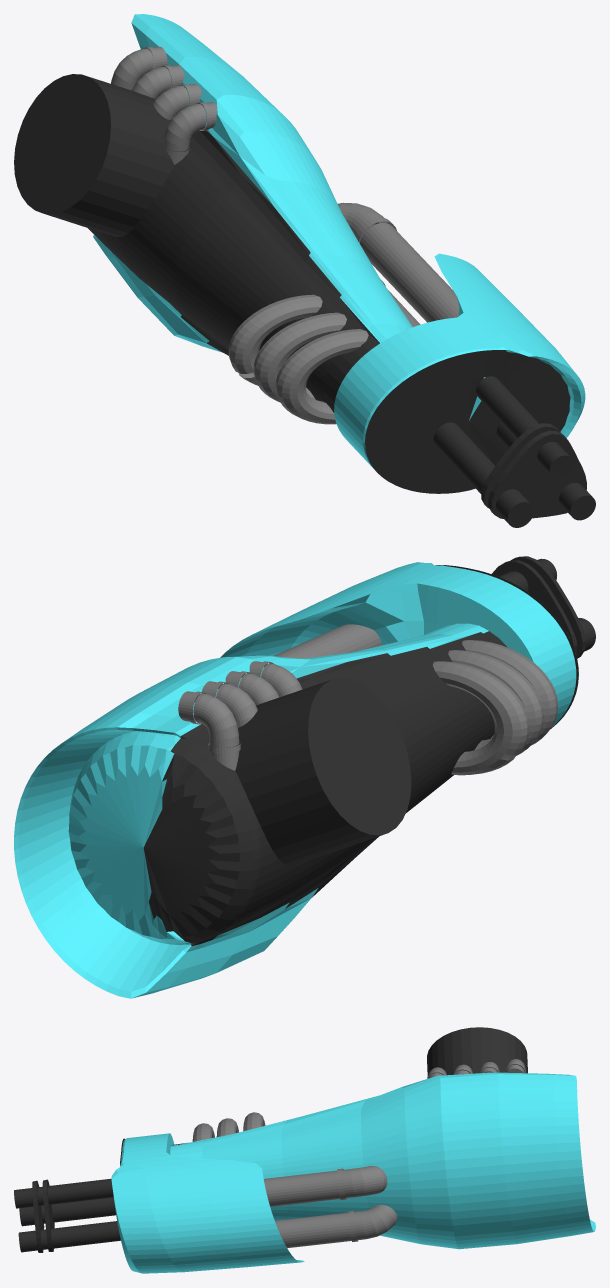
The model's file is SmallShip_Arm_R.fbx.
3 renders of one model, top to bottom at view 1: azimuth 30°, elevation 25°; view 2: azimuth 150°, elevation 25°; view 3: azimuth 270°, elevation 25°, orthographic. The views are drawn at different scales.
Parts seen in each view (by area): view 1: Cylinder.032, Cylinder.033, Cylinder.031, Cylinder.034, Cylinder.000, Cylinder.035, Cylinder.036, Cylinder.025; view 2: Cylinder.033, Cylinder.032, Cylinder.031, Cylinder.000, Cylinder.025, Cylinder.036, Cylinder.035, Cylinder.034; view 3: Cylinder.033, Cylinder.000, Cylinder.036, Cylinder.035, Cylinder.031, Cylinder.025.
Boxes of the visible parts, left/top/right/bottom form: Cylinder.032: left=88, top=129, right=379, bottom=412; Cylinder.033: left=93, top=14, right=412, bottom=352; Cylinder.031: left=14, top=74, right=180, bottom=237; Cylinder.034: left=365, top=350, right=570, bottom=493; Cylinder.000: left=334, top=253, right=585, bottom=493; Cylinder.035: left=433, top=376, right=595, bottom=527; Cylinder.036: left=111, top=46, right=459, bottom=326; Cylinder.025: left=228, top=294, right=368, bottom=424; Cylinder.033: left=14, top=623, right=488, bottom=998; Cylinder.032: left=143, top=631, right=507, bottom=946; Cylinder.031: left=226, top=677, right=411, bottom=865; Cylinder.000: left=220, top=562, right=578, bottom=727; Cylinder.025: left=432, top=640, right=558, bottom=775; Cylinder.036: left=178, top=624, right=381, bottom=770; Cylinder.035: left=492, top=556, right=595, bottom=658; Cylinder.034: left=435, top=565, right=578, bottom=729; Cylinder.033: left=170, top=1072, right=595, bottom=1249; Cylinder.000: left=111, top=1133, right=304, bottom=1273; Cylinder.036: left=263, top=1059, right=526, bottom=1248; Cylinder.035: left=14, top=1178, right=120, bottom=1252; Cylinder.031: left=427, top=1027, right=527, bottom=1078; Cylinder.025: left=192, top=1112, right=265, bottom=1141.
Size of the model in its own units: 144 by 117 by 333.
